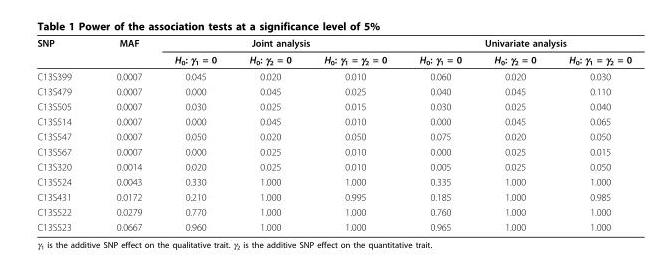table: (36, 36, 631, 232)
table column: (307, 36, 402, 232), (551, 36, 631, 232), (157, 36, 232, 232), (232, 36, 307, 232), (402, 36, 477, 232), (477, 36, 551, 232), (93, 36, 157, 232), (36, 36, 93, 232)
table column header: (36, 36, 631, 68)
table row: (36, 50, 631, 68), (36, 173, 631, 189), (36, 68, 631, 83), (36, 83, 631, 98), (36, 98, 631, 113), (36, 113, 631, 128), (36, 128, 631, 143), (36, 143, 631, 158), (36, 158, 631, 173), (36, 189, 631, 204), (36, 204, 631, 219), (36, 36, 631, 50), (36, 219, 631, 232)
table spanning cell: (157, 36, 402, 50), (402, 36, 631, 50), (93, 36, 157, 68), (36, 36, 93, 68)
